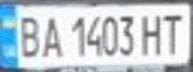0: (103, 11, 121, 57)
1: (63, 11, 87, 57)
3: (118, 11, 139, 56)
4: (84, 11, 106, 57)
A: (36, 11, 63, 60)
B: (12, 11, 45, 60)
H: (139, 10, 166, 56)
T: (157, 9, 187, 55)
